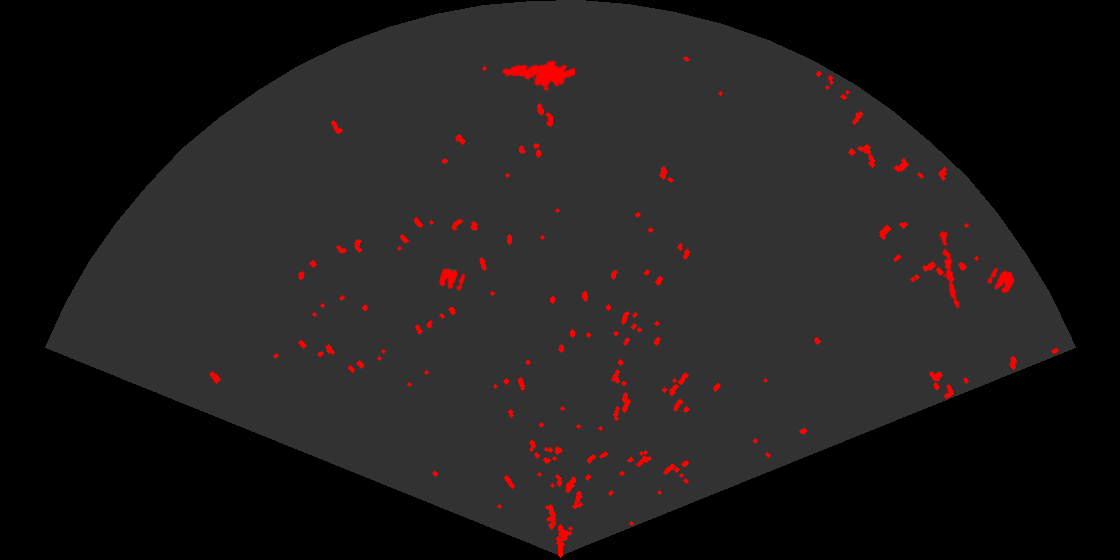ball: (986, 266, 1016, 295), (437, 267, 467, 293)
chain: (937, 228, 961, 310)
frogman: (500, 59, 575, 93)
